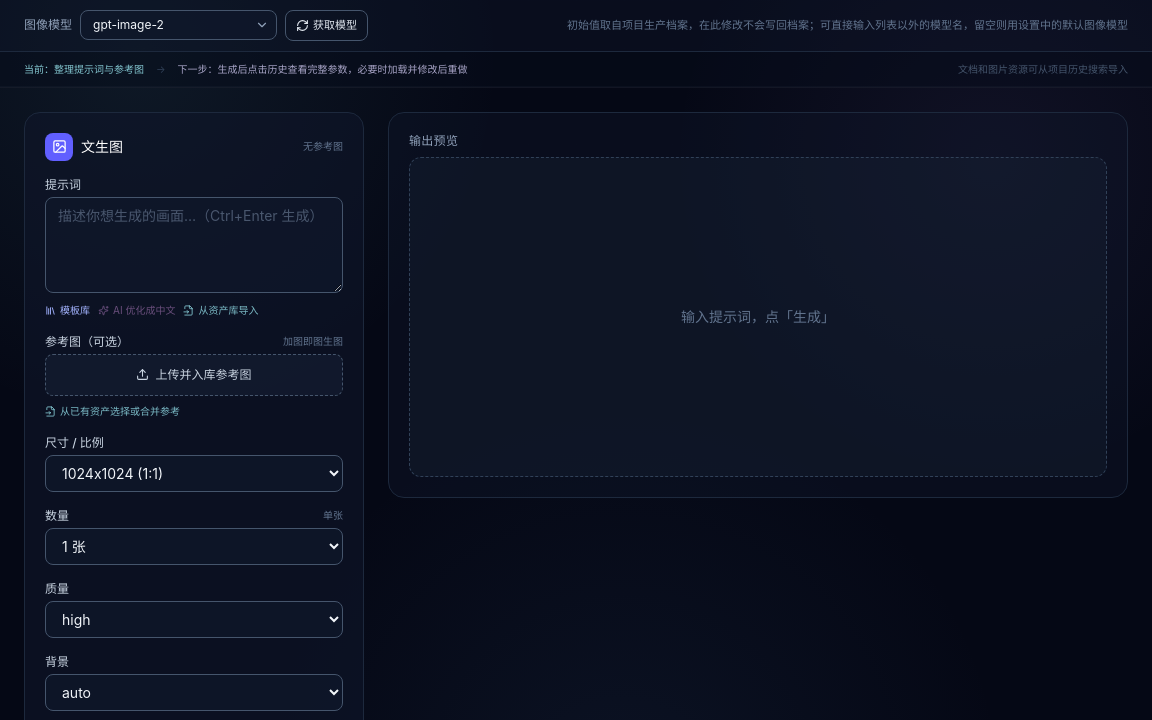
Scenario: GeneratePanel keyboard access › closes the template library load error with Escape
The image size is (1152, 720).
Click the button "模板库". click: (68, 310)
box: top-left (45, 302), bottom-right (90, 318)
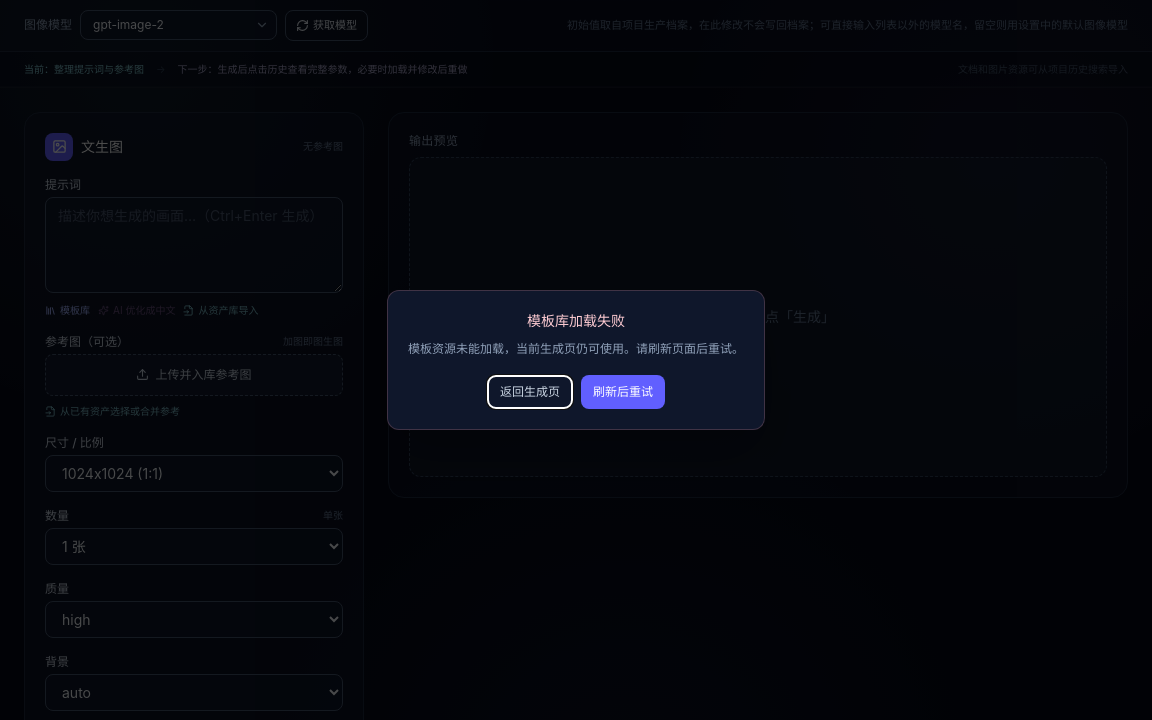
Press Escape
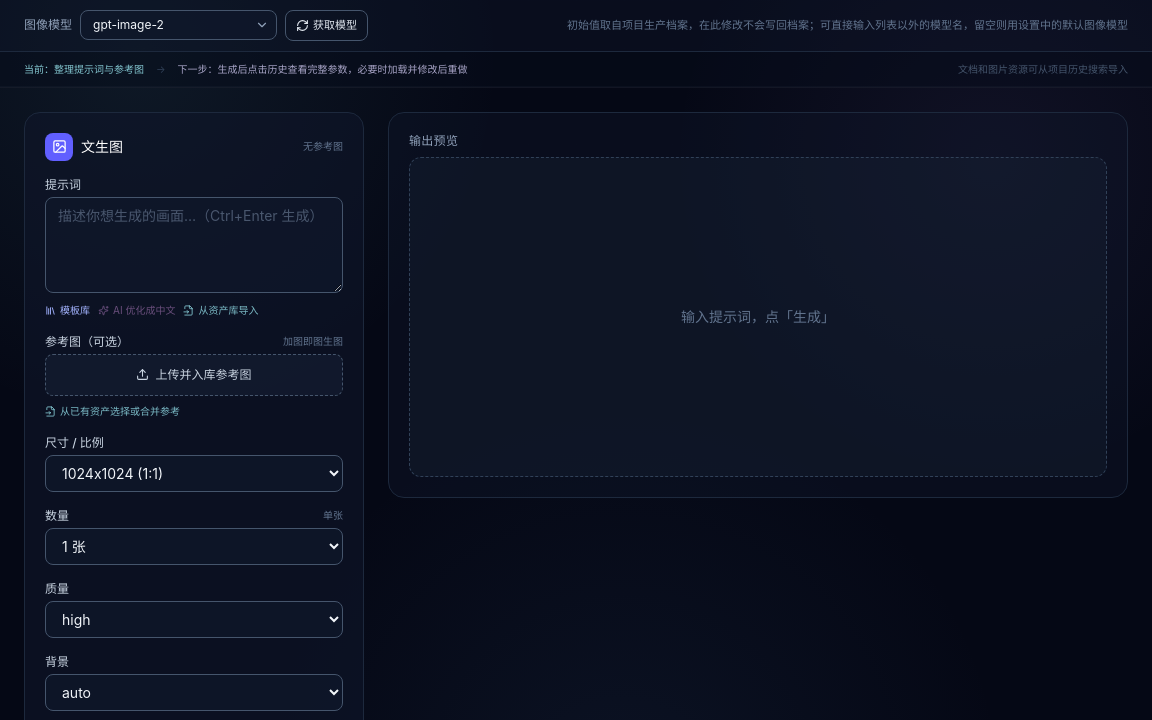
expect the dialog is gone: met
